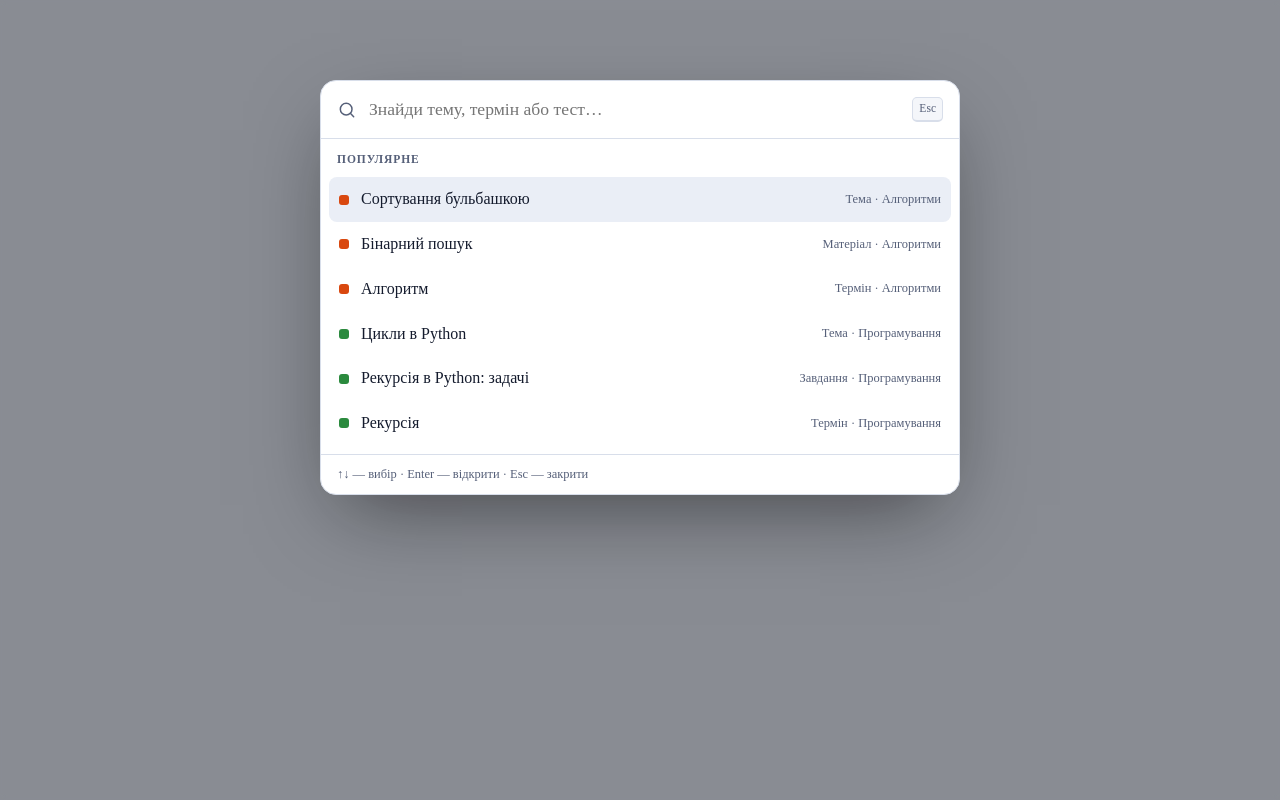
Test: search palette › typing filters the list and highlights the match
The image size is (1280, 800).
Type "РЕК" into the dropdown at (635, 110), box [367,95,902,124]
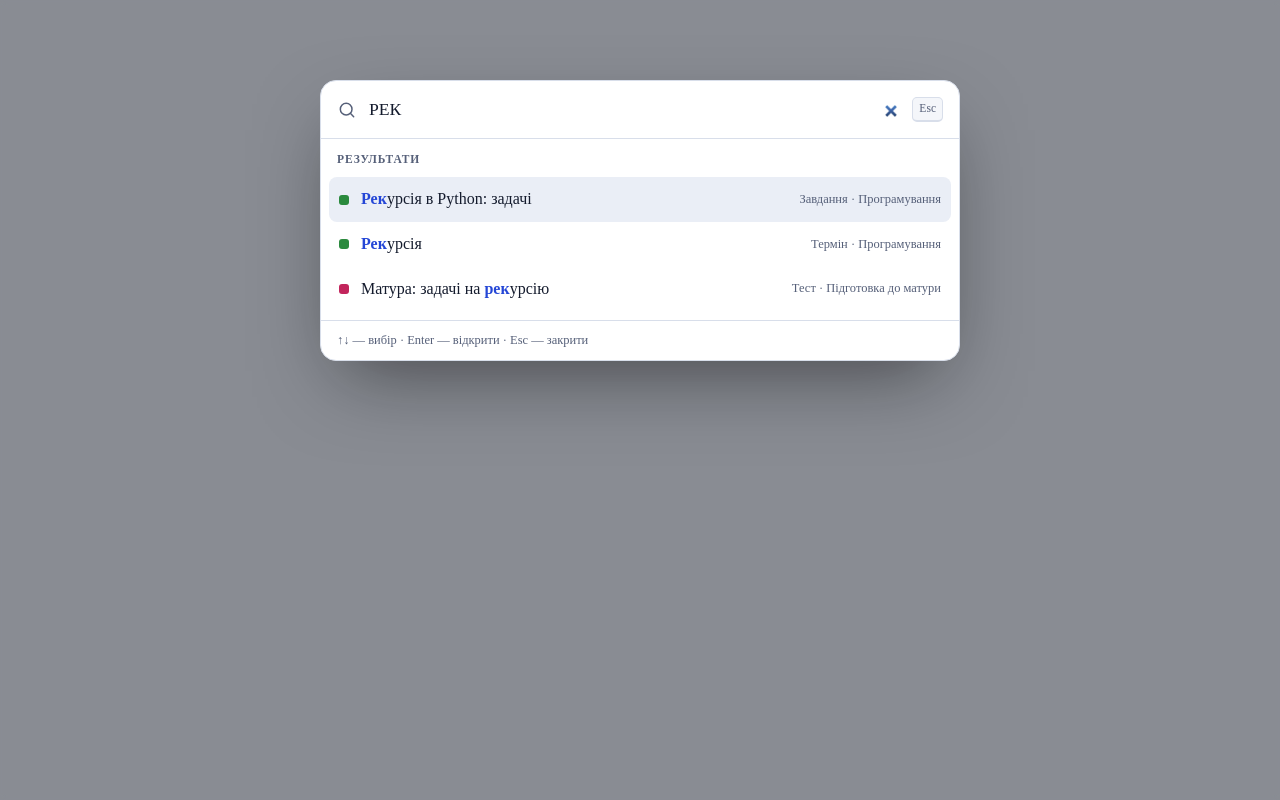
Result: the text "Рек" next to "урсія в Python: задачі" is shown at [361,190,387,207]
